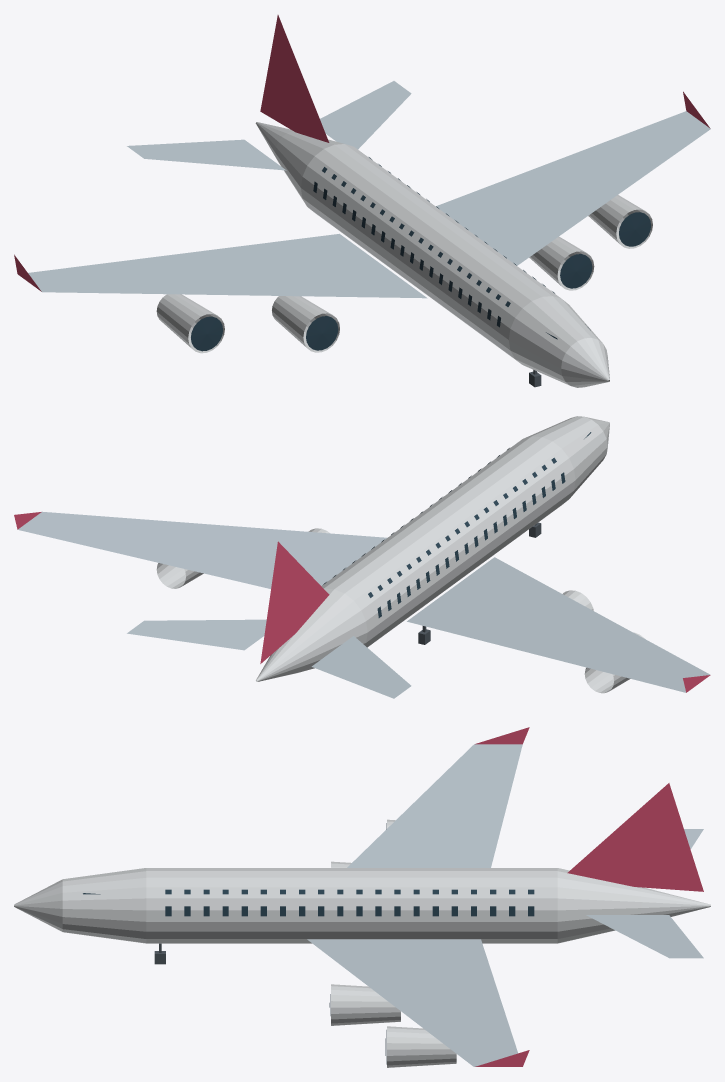
Rendered from a380-THY.gltf.
The picture shows the model from 3 angles, top to bottom: view 1: azimuth 30°, elevation 25°; view 2: azimuth 150°, elevation 25°; view 3: azimuth 270°, elevation 25°; orthographic projection.
Visible parts, largest first — view 1: object 1; view 2: object 1; view 3: object 1.
Part boxes in pixels (<box>): object 1: <box>14,15,710,387</box>; object 1: <box>14,416,710,698</box>; object 1: <box>14,727,710,1067</box>.
Bounding box in the file's own units: 80 × 20.82 × 73.
